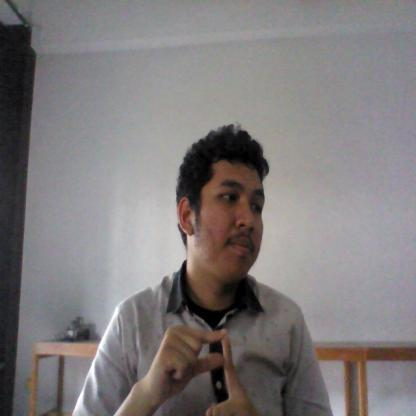P: (145, 307, 260, 416)
